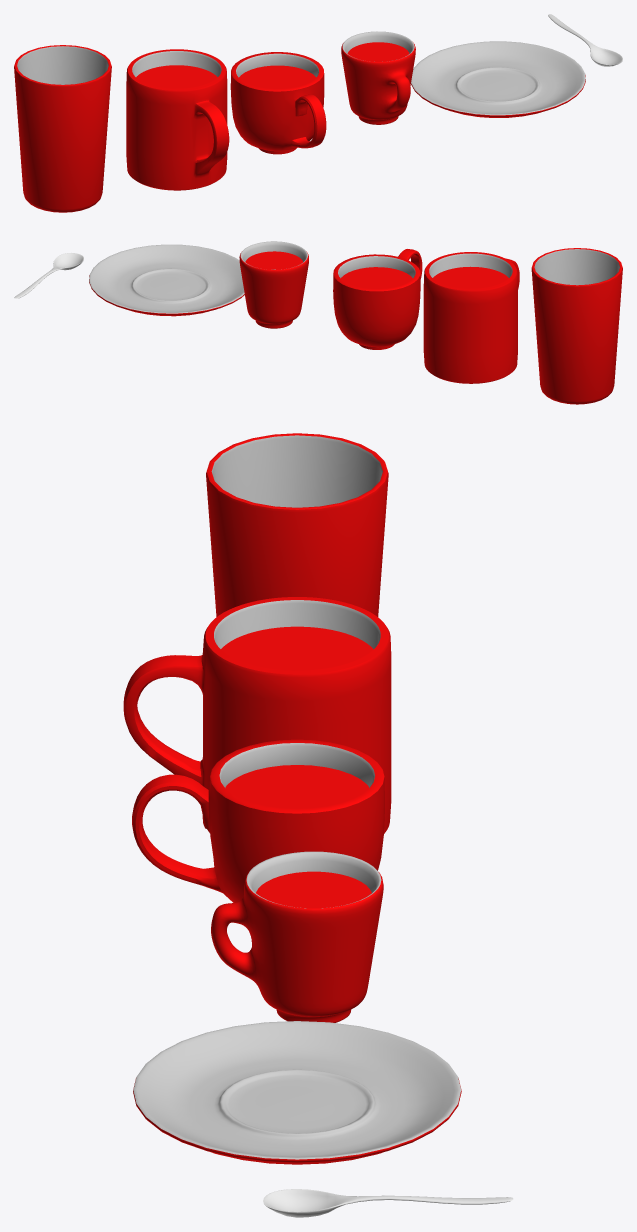
Rendered from Cups.fbx.
3 views of the same model, one above another, from view 1: azimuth 30°, elevation 25°; view 2: azimuth 150°, elevation 25°; view 3: azimuth 270°, elevation 25° (orthographic). The views are drawn at different scales.
Parts seen in each view (by area): view 1: Cup_4, Cup_3, Dish, Cup_2, Cup_1, Disk_3, Disk_1, Disk_2, Spoon; view 2: Cup_4, Cup_3, Dish, Cup_2, Cup_1, Disk_3, Disk_1, Disk_2, Spoon; view 3: Dish, Cup_4, Cup_3, Cup_2, Cup_1, Disk_3, Disk_1, Disk_2, Spoon.
Boxes of the visible parts, x1=… form: Cup_4: x1=14, y1=45, x2=111, y2=212; Cup_3: x1=126, y1=49, x2=229, y2=190; Dish: x1=411, y1=41, x2=585, y2=117; Cup_2: x1=230, y1=52, x2=326, y2=154; Cup_1: x1=341, y1=31, x2=415, y2=124; Disk_3: x1=136, y1=65, x2=217, y2=88; Disk_1: x1=239, y1=65, x2=316, y2=88; Disk_2: x1=347, y1=42, x2=409, y2=61; Spoon: x1=548, y1=14, x2=622, y2=66; Cup_4: x1=531, y1=248, x2=622, y2=404; Cup_3: x1=423, y1=252, x2=519, y2=383; Dish: x1=89, y1=244, x2=244, y2=316; Cup_2: x1=333, y1=249, x2=422, y2=349; Cup_1: x1=239, y1=241, x2=308, y2=328; Disk_3: x1=433, y1=266, x2=508, y2=288; Disk_1: x1=341, y1=267, x2=412, y2=288; Disk_2: x1=245, y1=251, x2=302, y2=269; Spoon: x1=14, y1=253, x2=83, y2=298; Dish: x1=133, y1=1021, x2=461, y2=1164; Cup_4: x1=206, y1=433, x2=388, y2=616; Cup_3: x1=123, y1=597, x2=391, y2=833; Cup_2: x1=132, y1=739, x2=384, y2=902; Cup_1: x1=211, y1=851, x2=383, y2=1022; Disk_3: x1=221, y1=626, x2=373, y2=670; Disk_1: x1=225, y1=765, x2=369, y2=808; Disk_2: x1=256, y1=871, x2=371, y2=908; Spoon: x1=263, y1=1189, x2=513, y2=1217.
Bounding box in the file's own units: 56.4 × 12.01 × 17.01.
